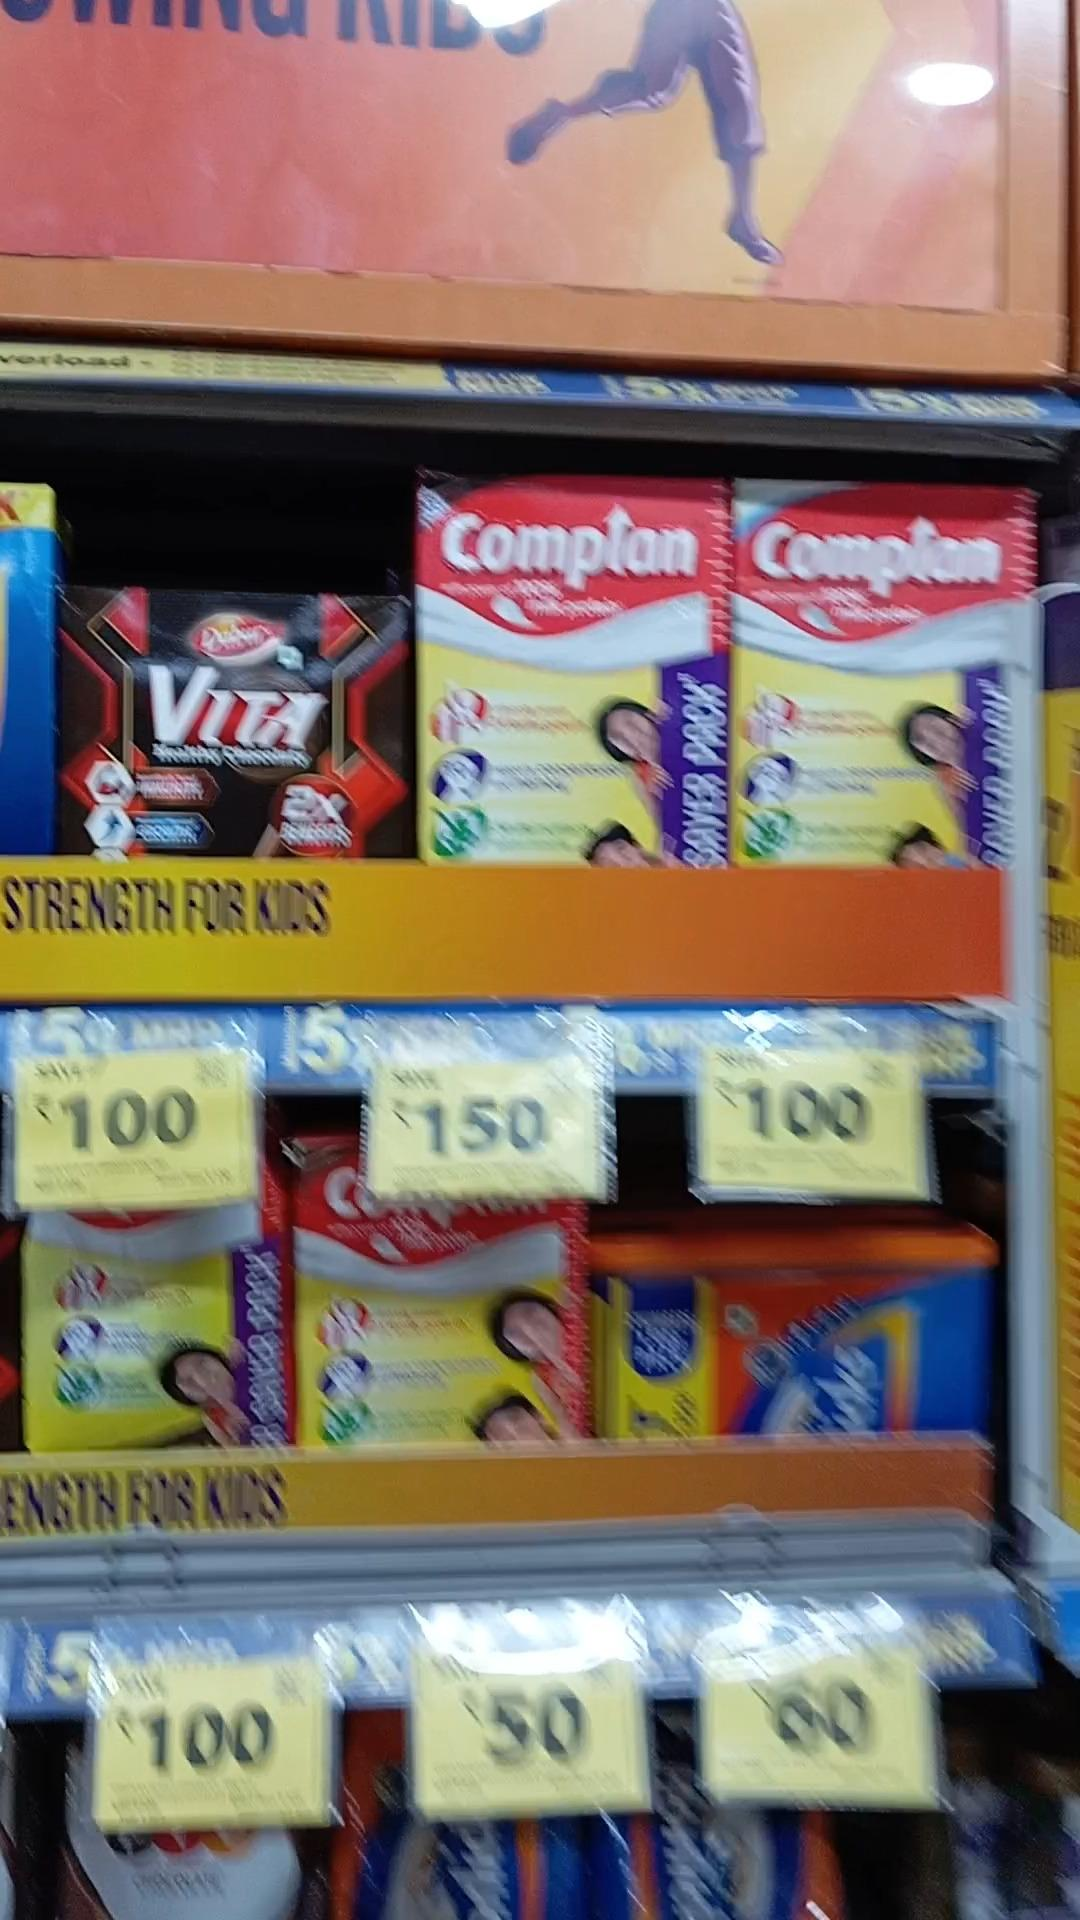COMPLAN_CHOCOLATE_1_KG_PACK: (417, 476, 727, 868)
COMPLAN_CHOCOLATE_500_GMS_PACK: (295, 1141, 567, 1441)
HORLICK_MALT_1_KG_CONTAINER: (600, 1236, 988, 1443)
